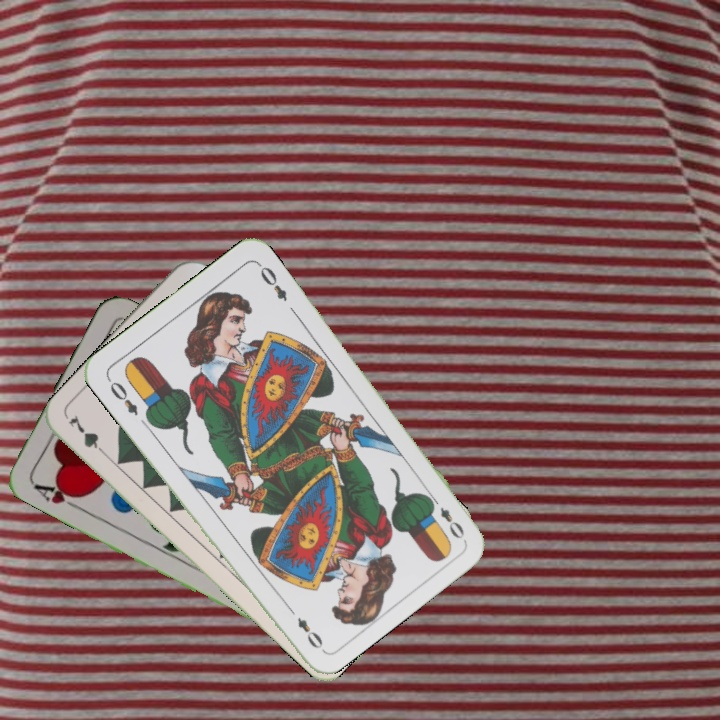EO: (425, 491, 468, 542), (103, 374, 141, 418)
G7: (64, 411, 111, 461)
HA: (30, 479, 86, 513)
